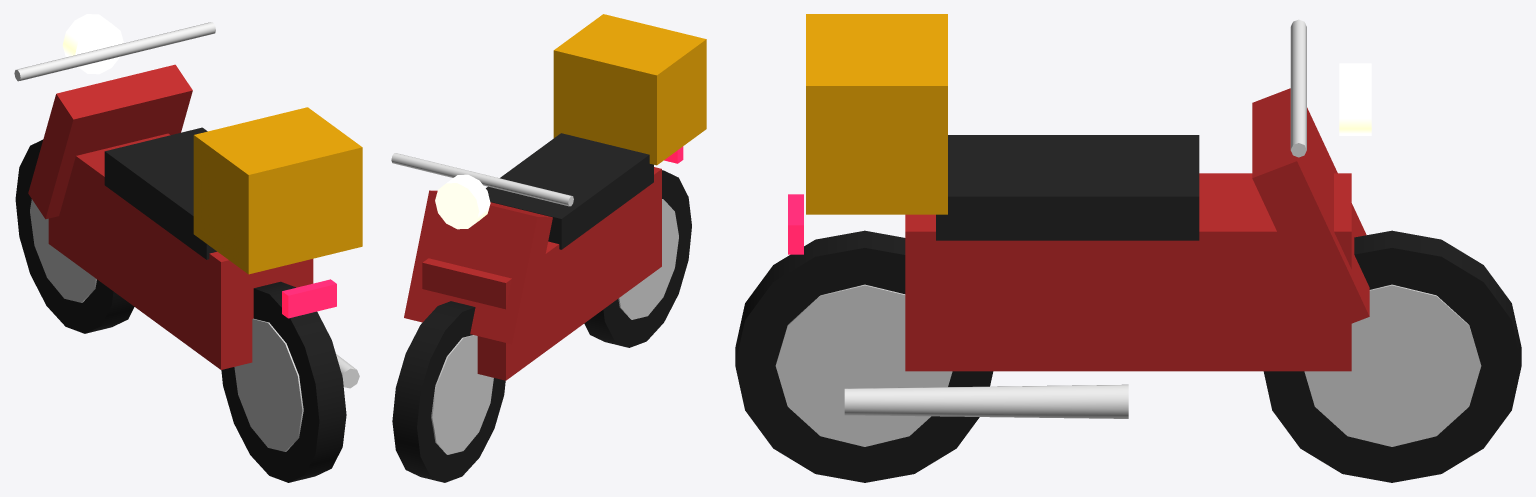
File: motorbike.glb
3 renders of one model, left to right at view 1: azimuth 30°, elevation 25°; view 2: azimuth 150°, elevation 25°; view 3: azimuth 270°, elevation 25°, orthographic. The views are drawn at different scales.
Visible parts, largest first — view 1: motorbike; view 2: motorbike; view 3: motorbike.
Boxes of the visible parts, box(x1,y1,x2,y2) form: motorbike: box(14, 14, 362, 482); motorbike: box(391, 14, 706, 482); motorbike: box(735, 14, 1521, 482).
Bounding box in the file's own units: 0.72 × 1.15 × 1.94.
